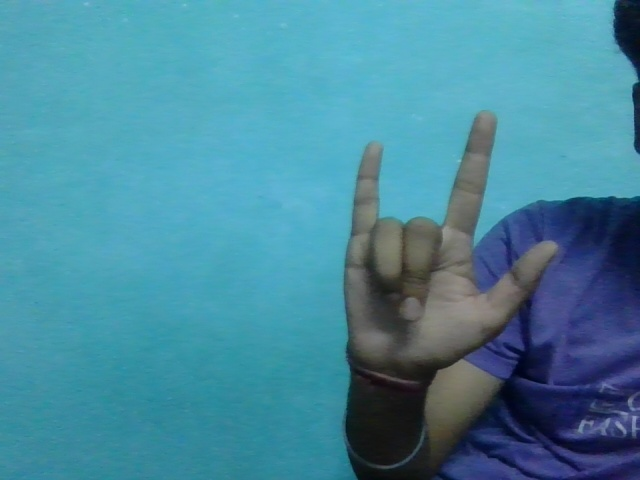iloveyou: (329, 103, 564, 379)
